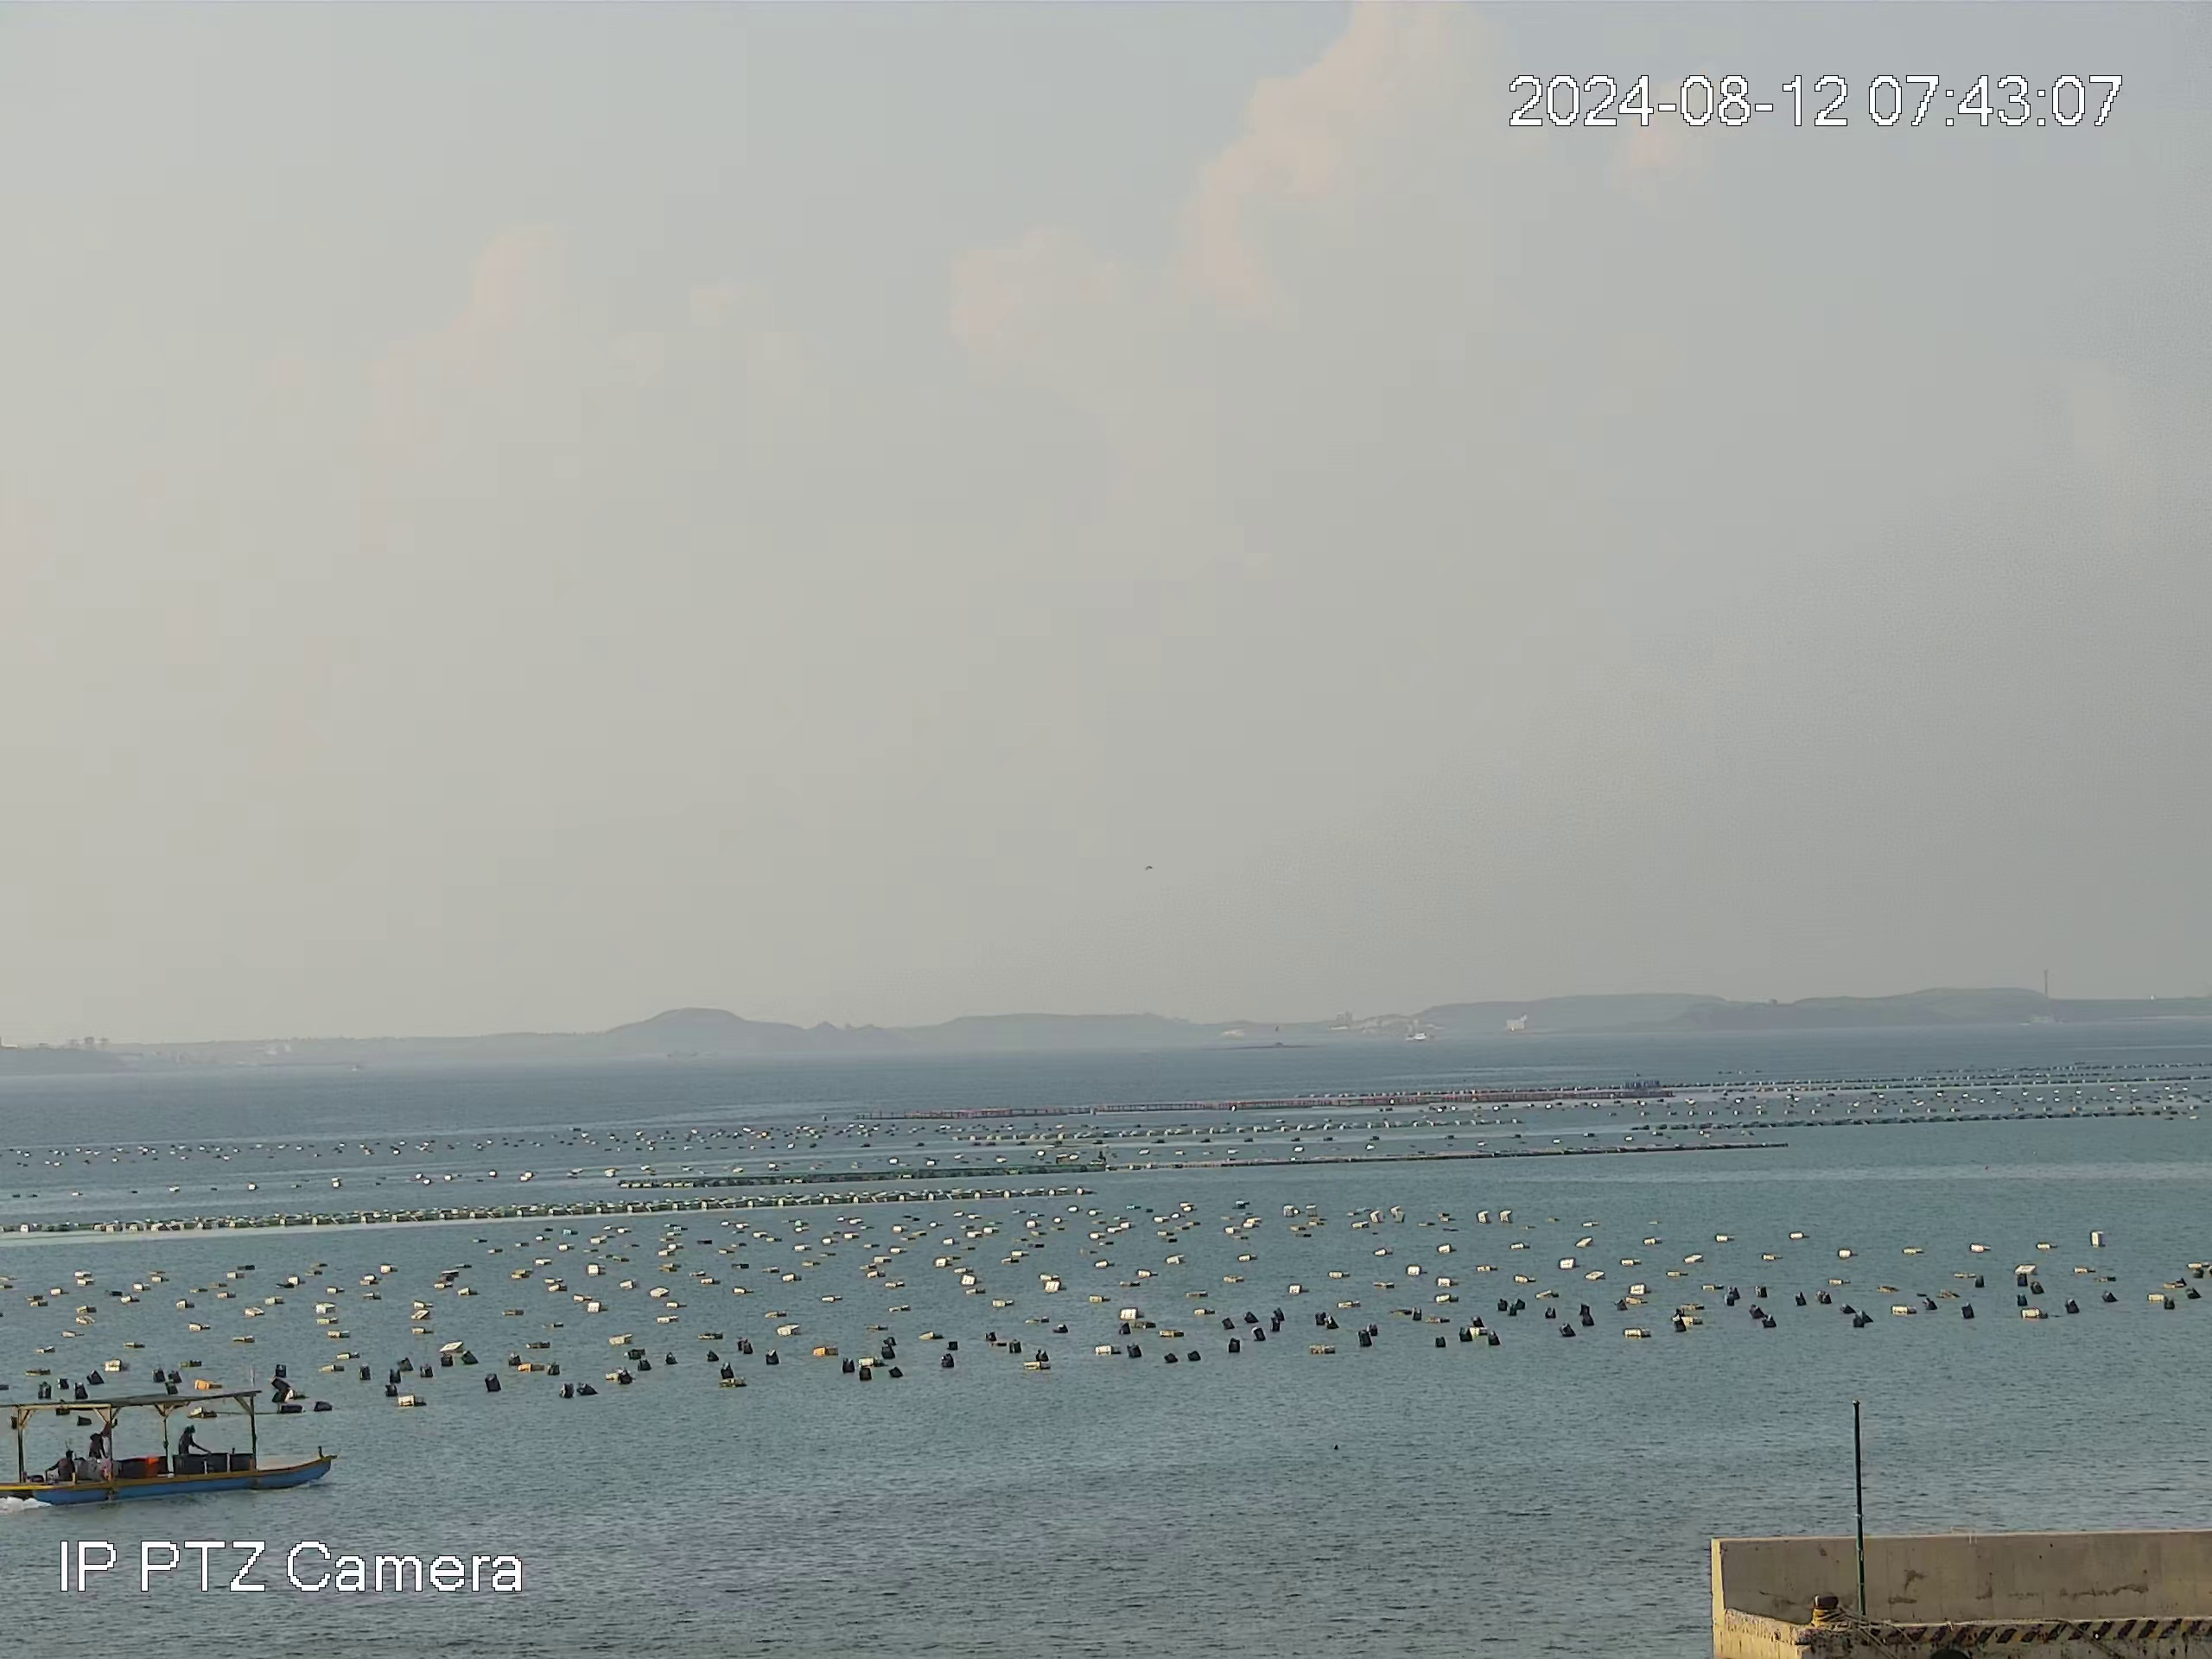boat: (0, 1380, 341, 1504)
